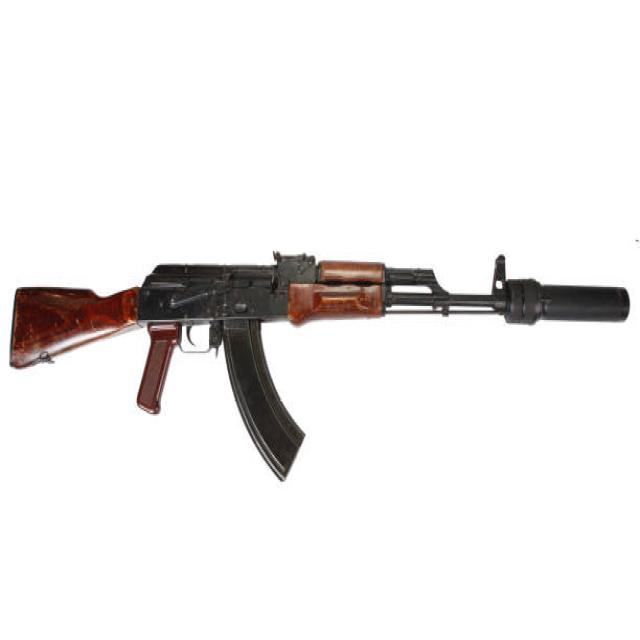rifle: (7, 243, 632, 486)
